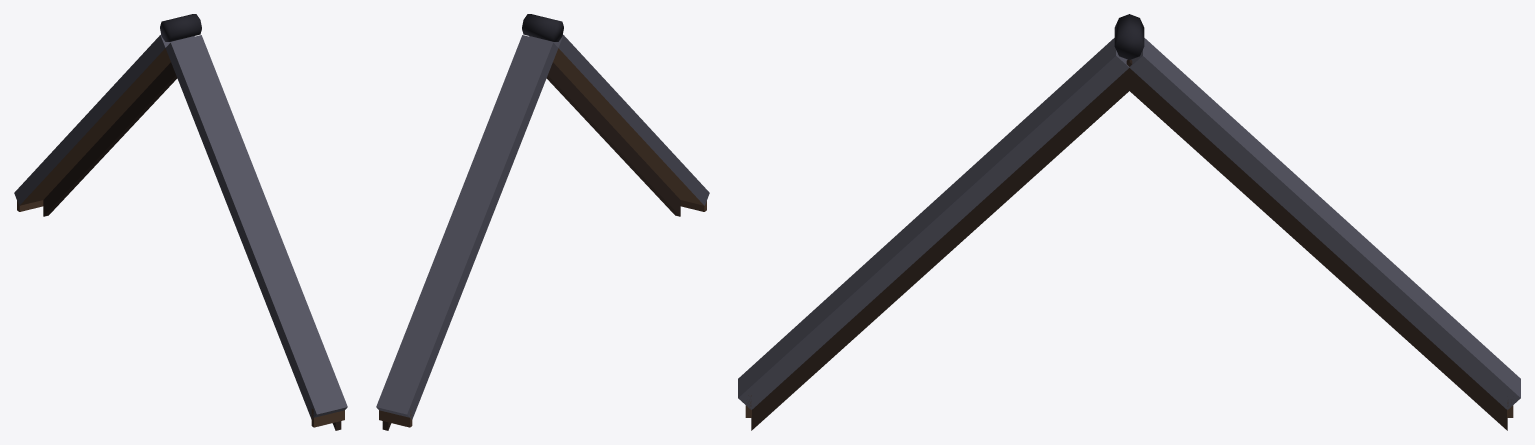
The model's file is kit_stone_slate_w3_end.glb.
The picture shows the model from 3 angles, left to right: view 1: azimuth 30°, elevation 25°; view 2: azimuth 150°, elevation 25°; view 3: azimuth 270°, elevation 25°; orthographic projection. The views are drawn at different scales.
Parts seen in each view (by area): view 1: kit_stone_slate_w3_end; view 2: kit_stone_slate_w3_end; view 3: kit_stone_slate_w3_end.
Boxes of the visible parts, bbox=[...] form: kit_stone_slate_w3_end: bbox=[14, 14, 347, 430]; kit_stone_slate_w3_end: bbox=[376, 14, 709, 430]; kit_stone_slate_w3_end: bbox=[738, 14, 1520, 430].
Bounding box in the file's own units: 0.22 × 2.09 × 3.73.
